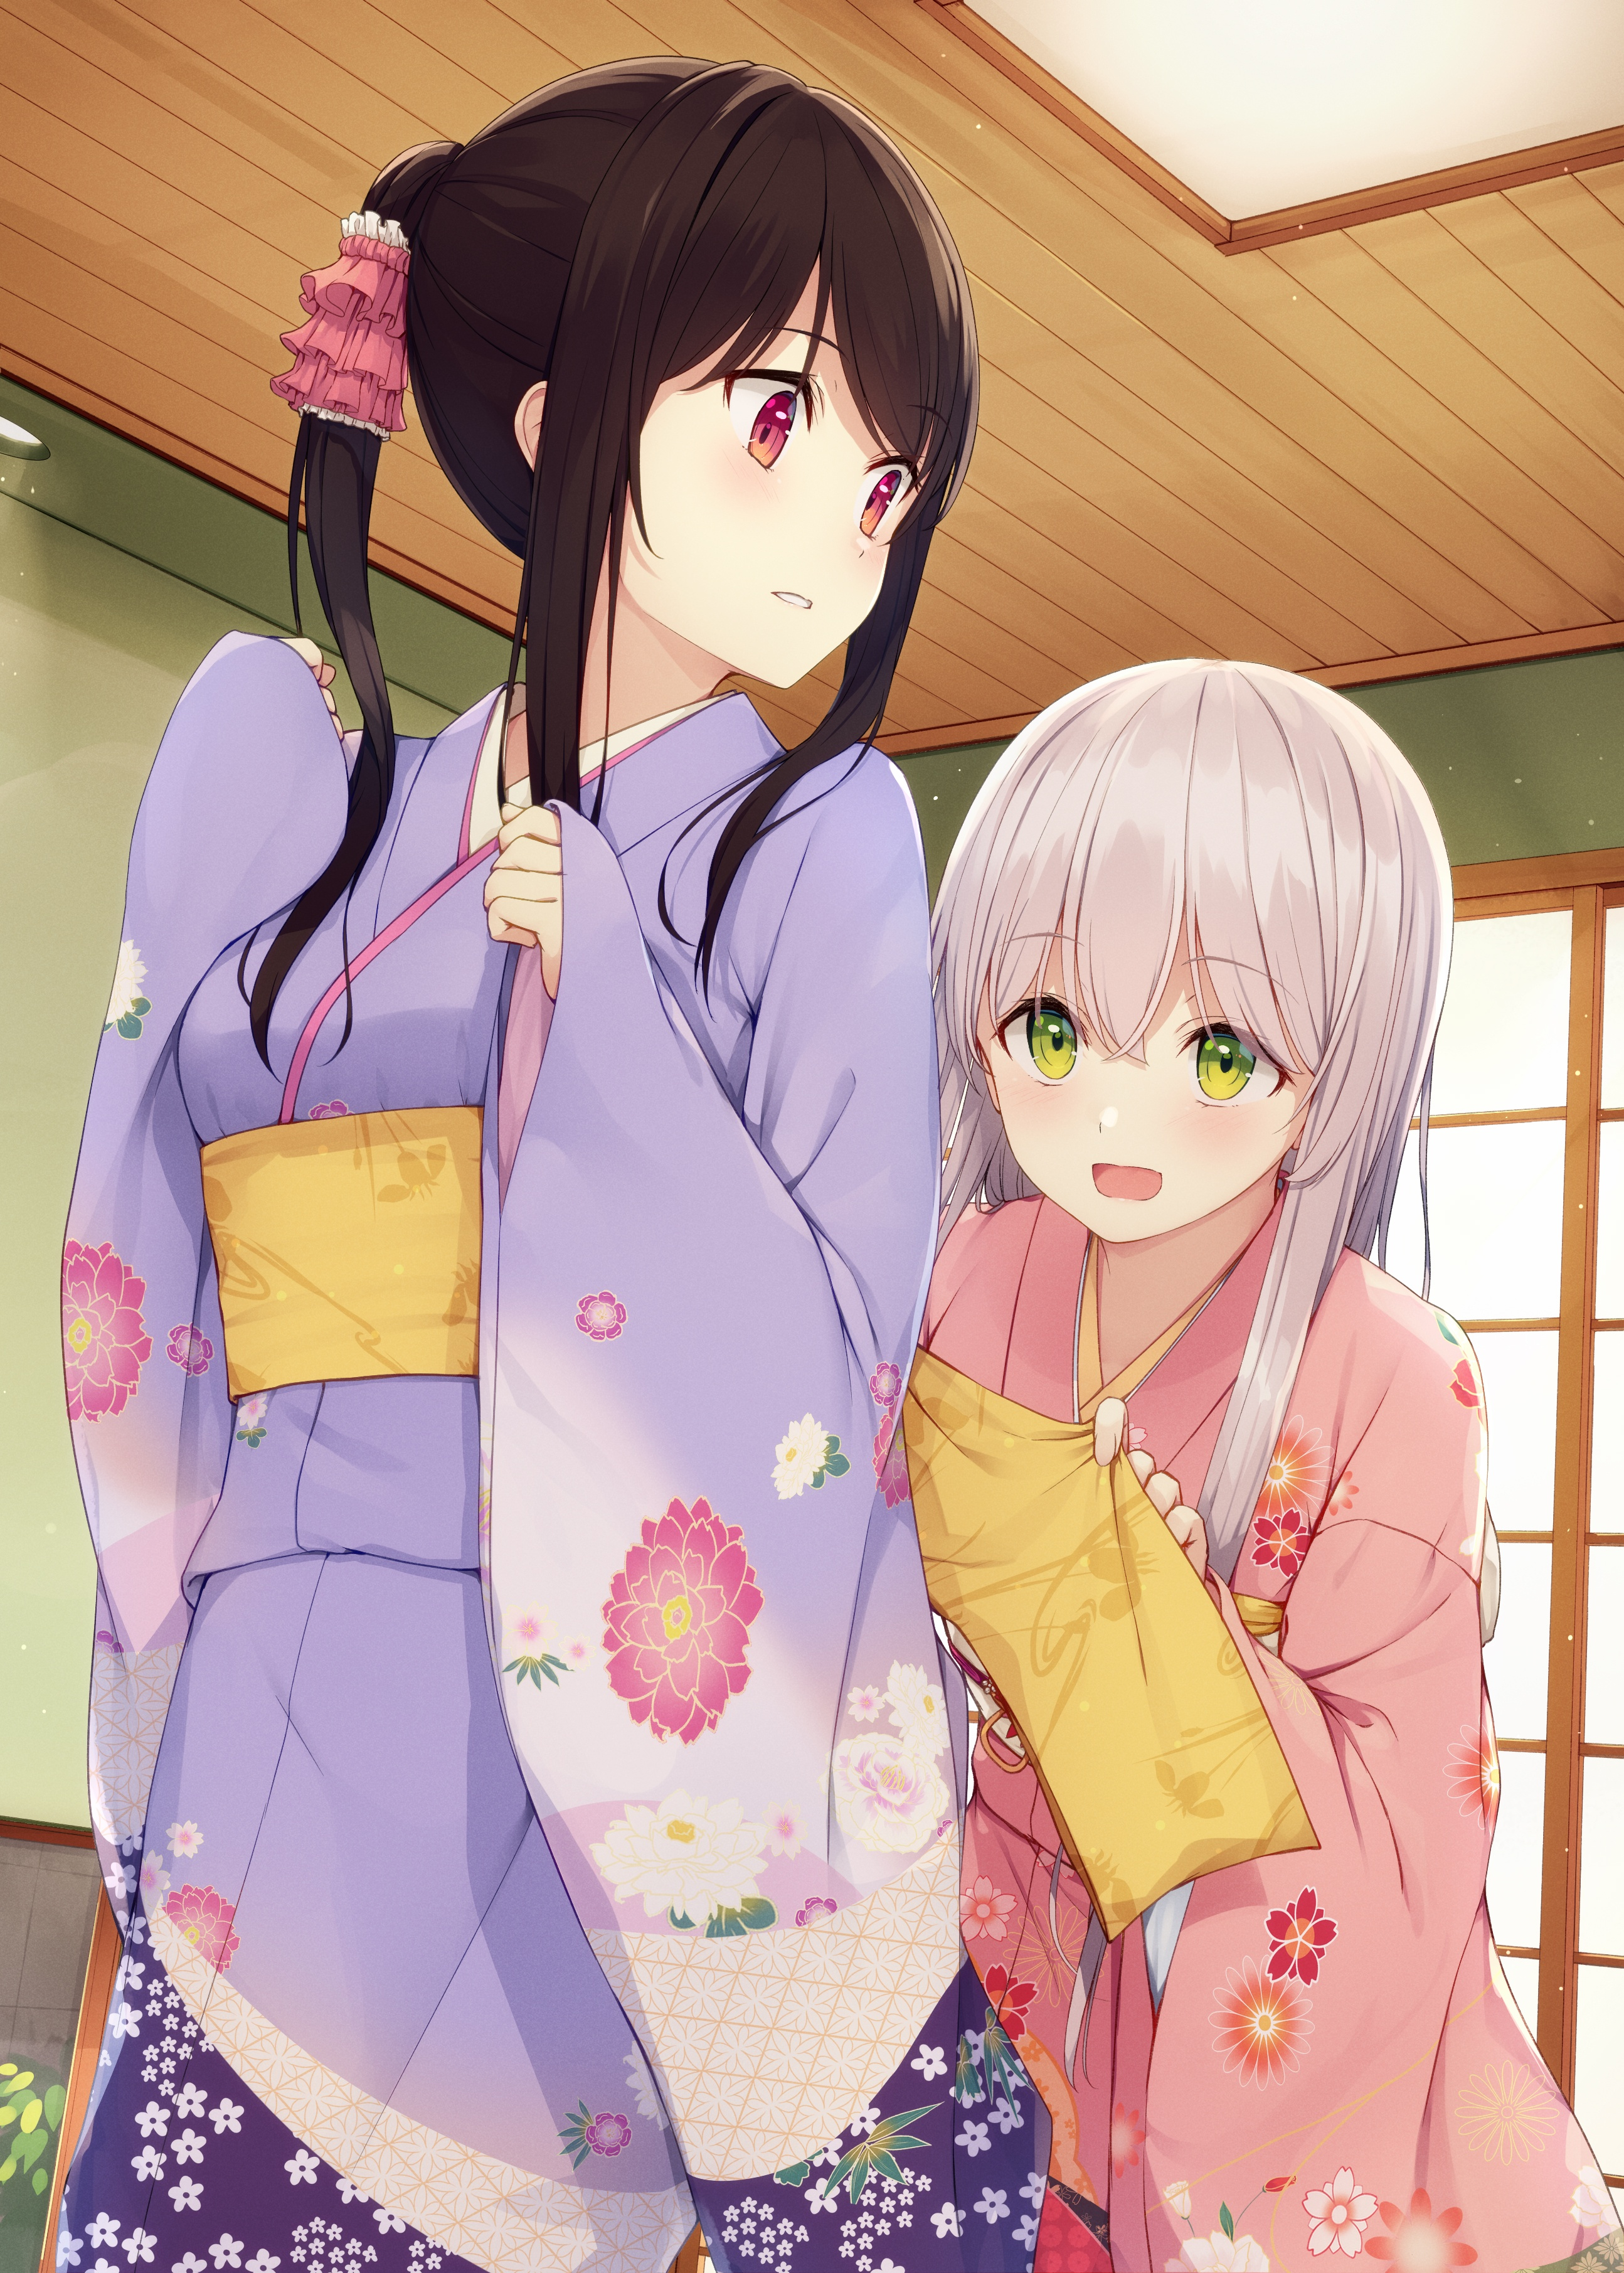纸片人正脸: (361, 43, 996, 723), (917, 630, 1461, 1269)
